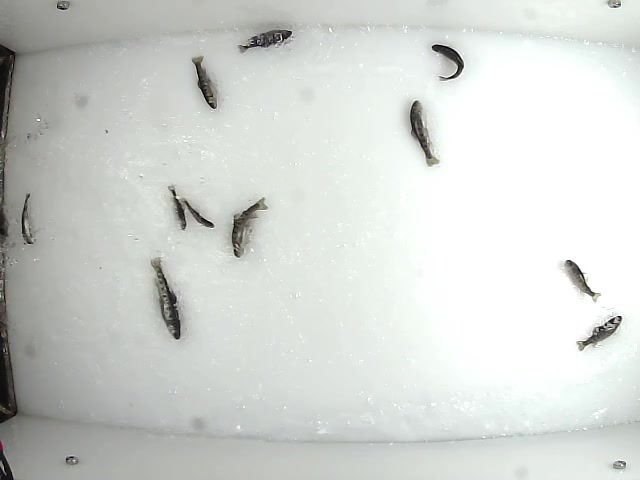fish: (149, 255, 183, 341), (228, 194, 270, 258), (407, 97, 441, 167), (559, 256, 601, 303), (574, 313, 622, 354), (190, 54, 220, 109), (236, 27, 293, 55), (431, 43, 465, 82), (179, 195, 217, 228), (165, 182, 187, 233), (19, 188, 36, 245)
